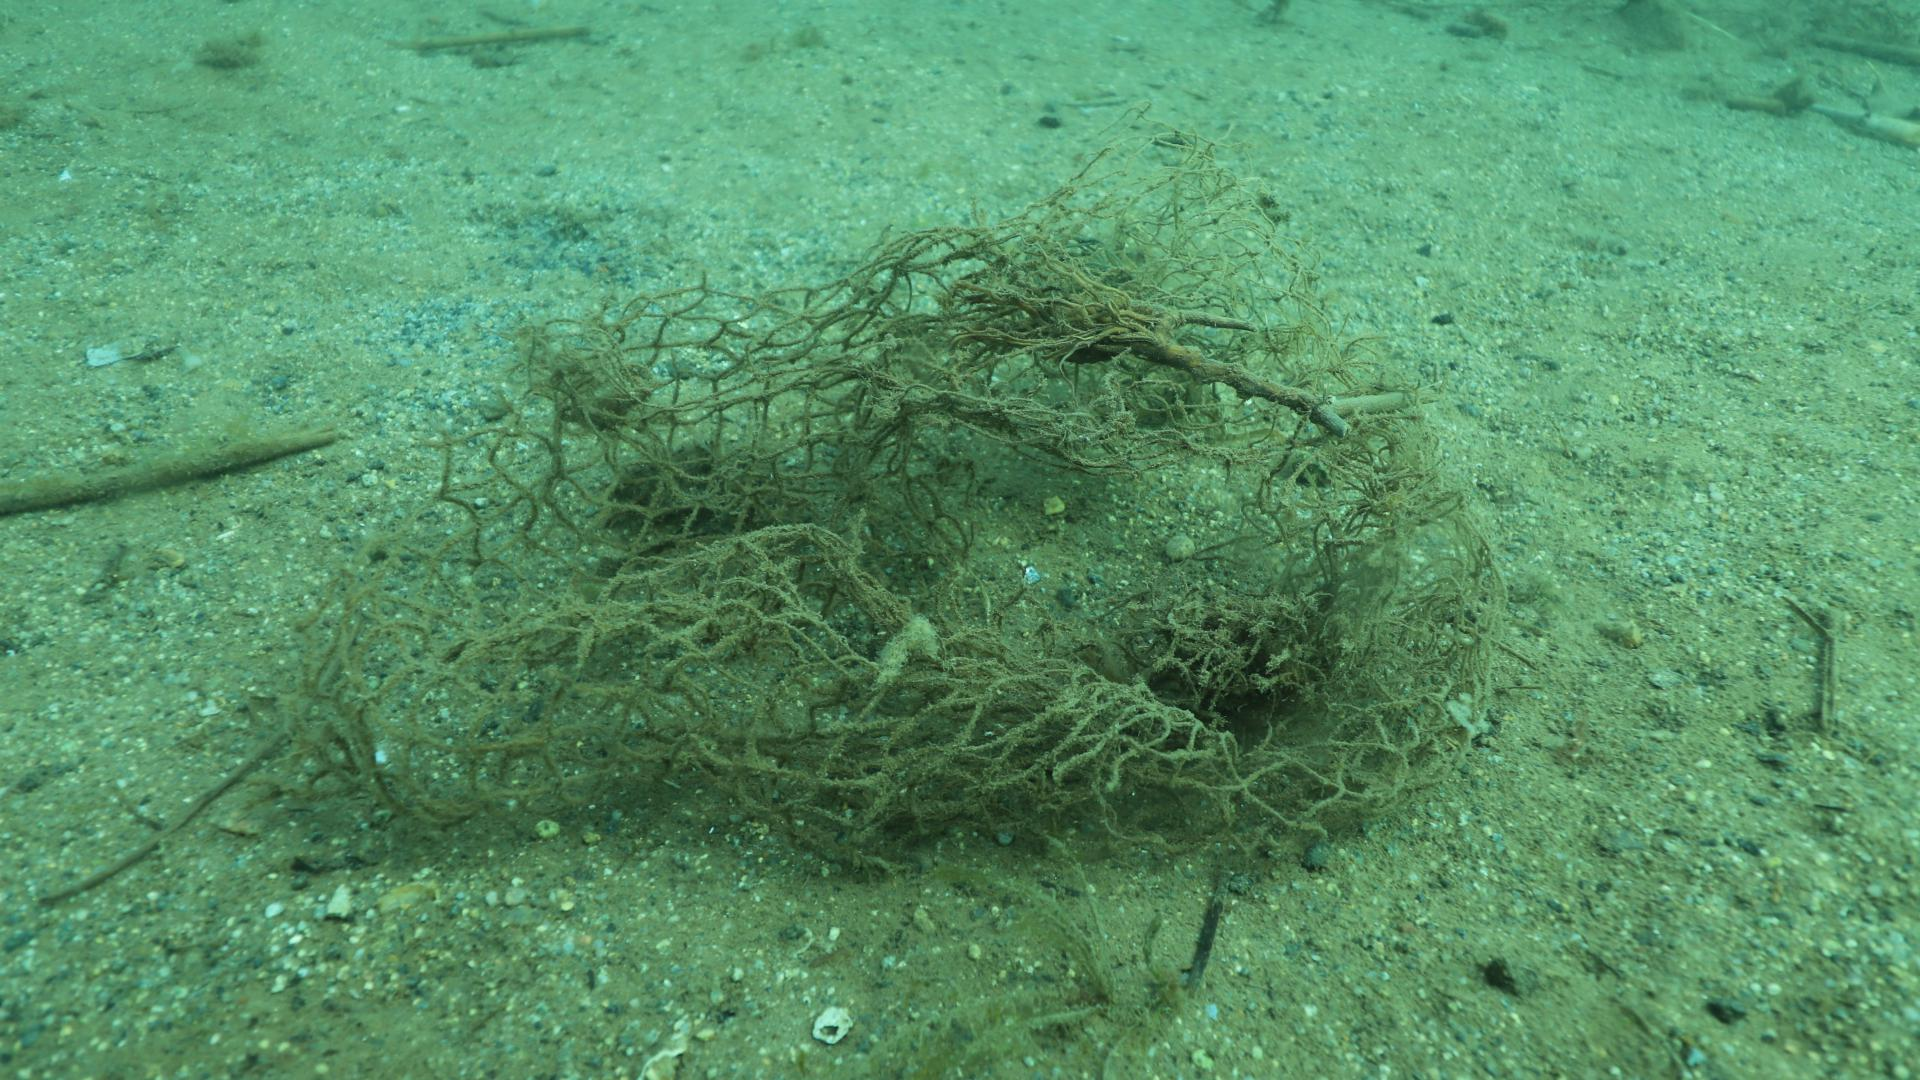fish net: (404, 284, 1472, 882)
